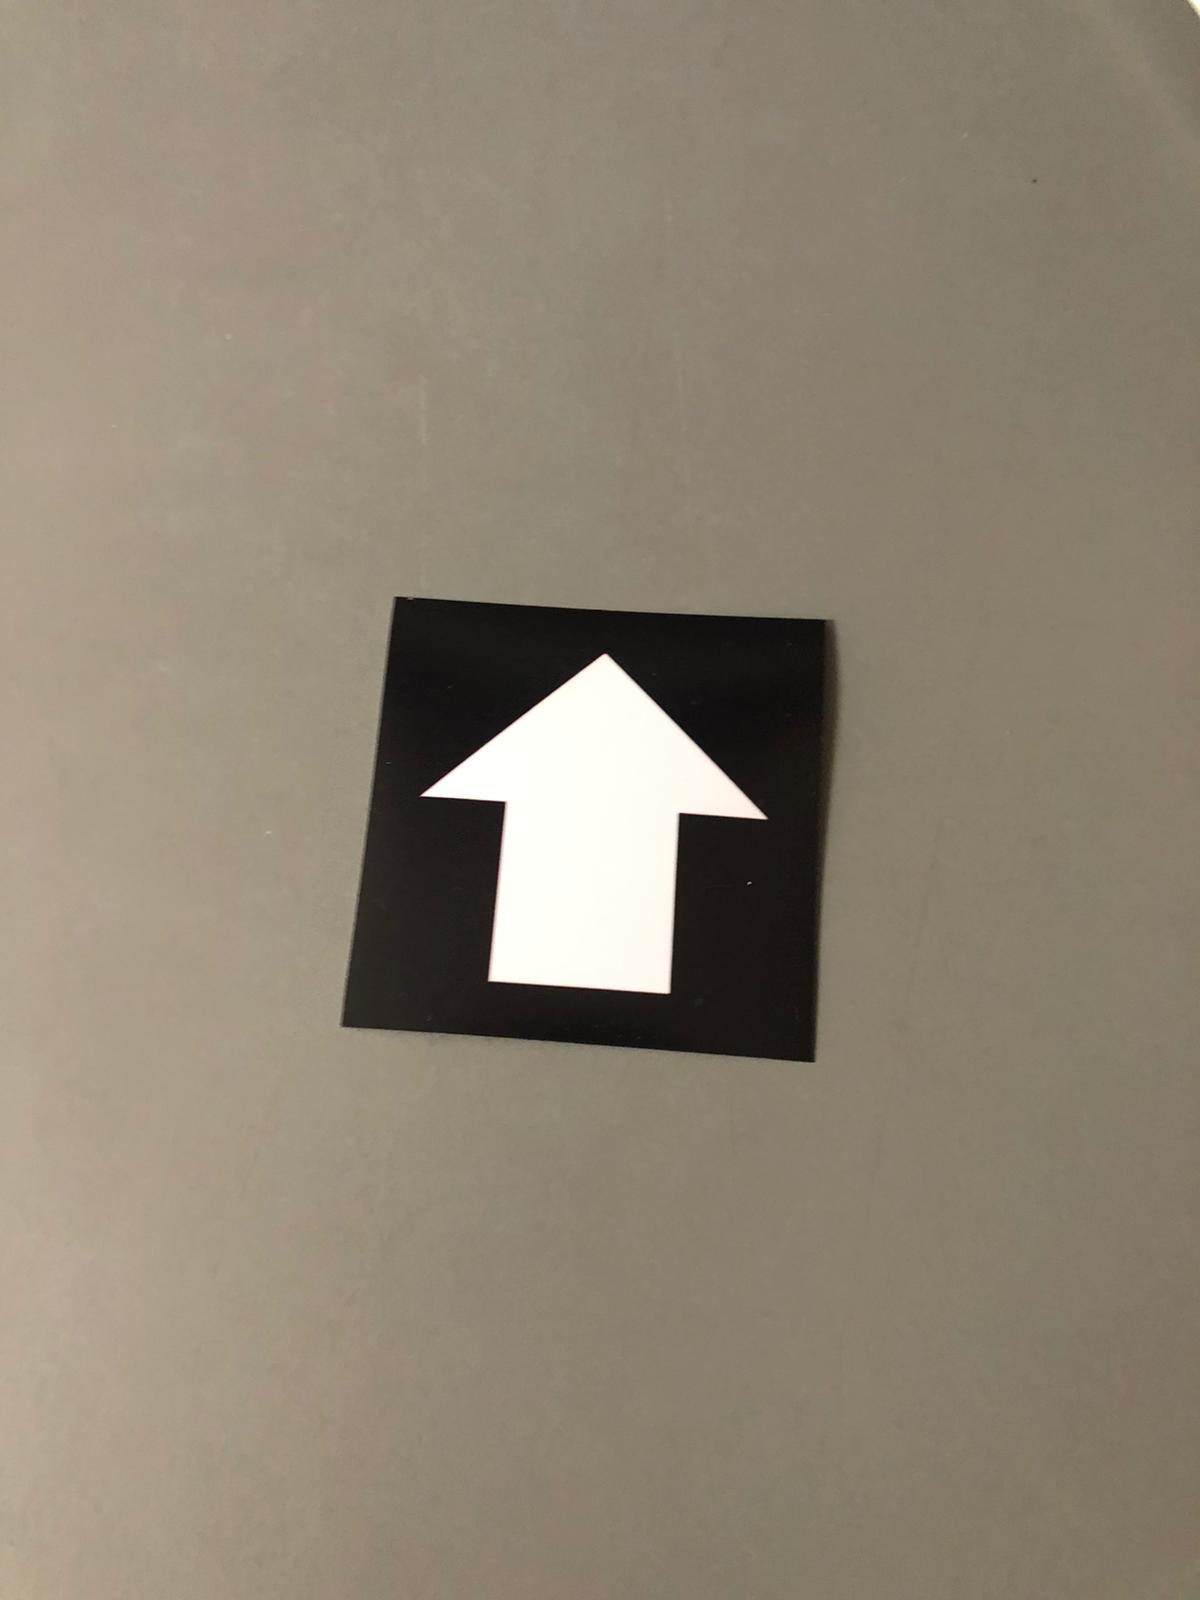Top Arrow: (396, 622, 793, 1039)
